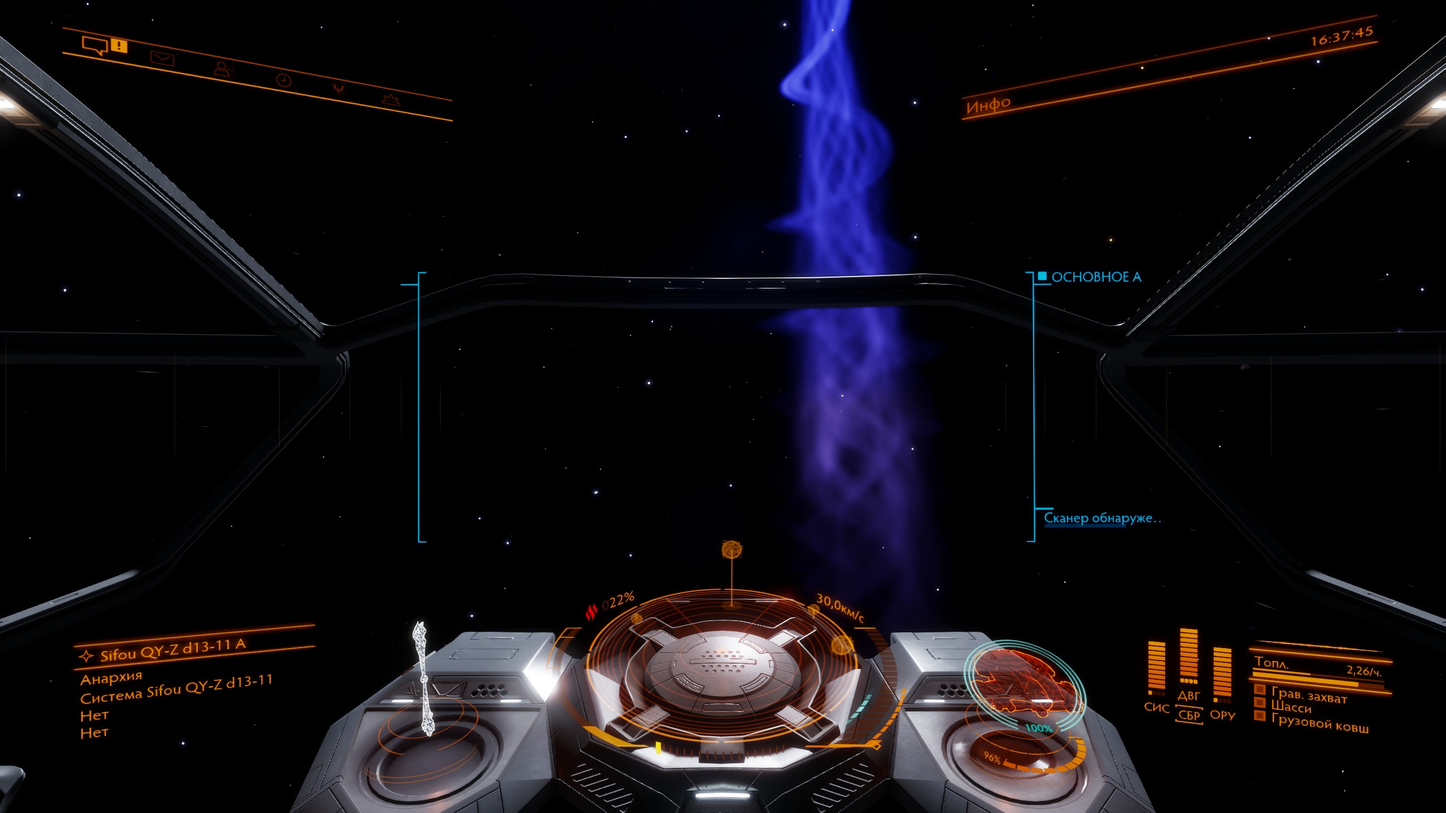jetcone: (775, 15, 899, 574)
